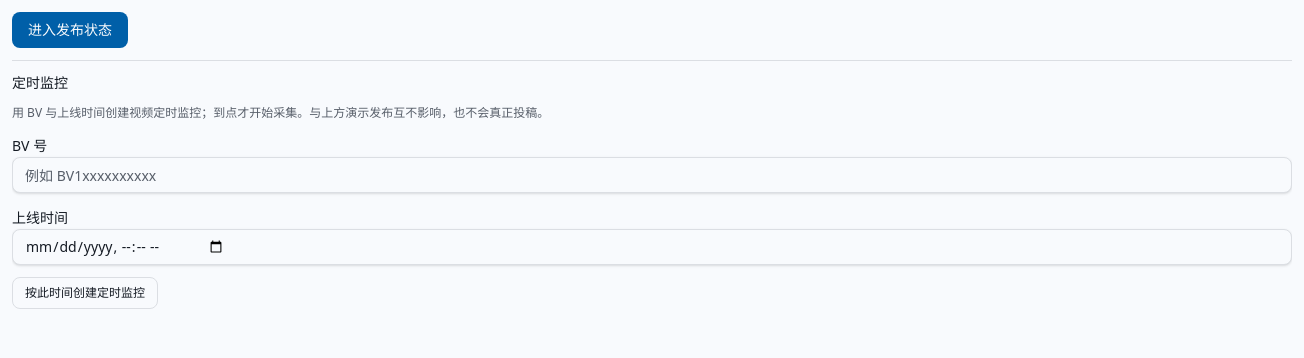
Test: PublishPanel scheduled monitor › creates a scheduled video monitor and shows the planned instant
Step 1. Type "BV1xx411c7mD" into the field with test id "publish-monitor-bvid" → (652, 175), box x1=12 y1=157 x2=1292 y2=193
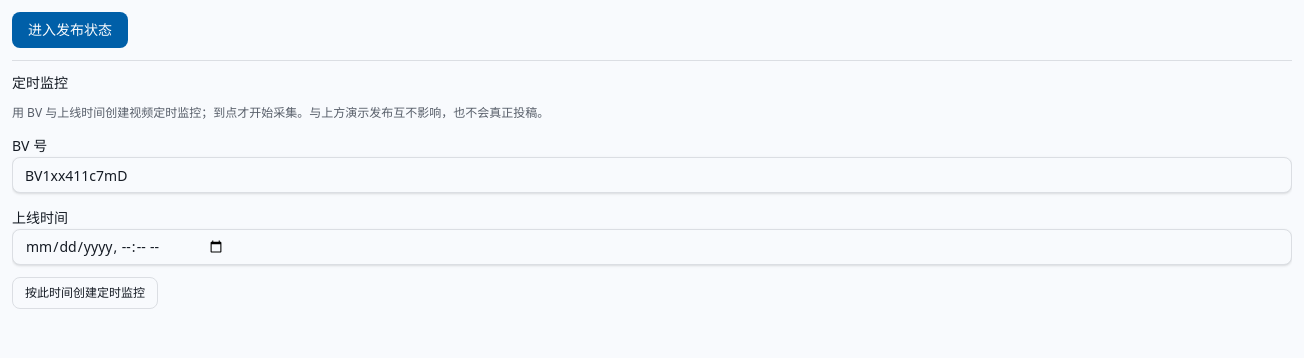
Step 2. Type "2026-11-01T09:30" into the field with test id "publish-monitor-start-at" → (652, 247), box x1=12 y1=229 x2=1292 y2=265
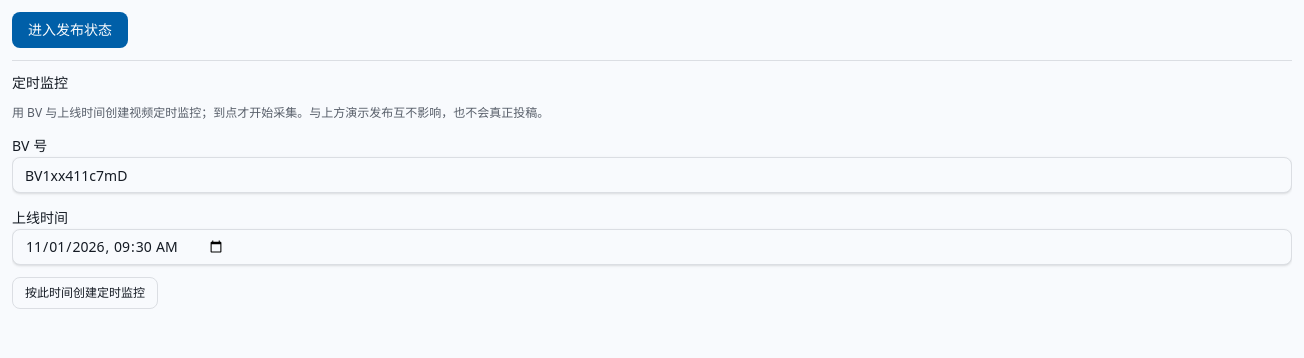
Step 3. Click the button "按此时间创建定时监控" → (85, 293), box x1=12 y1=277 x2=158 y2=309
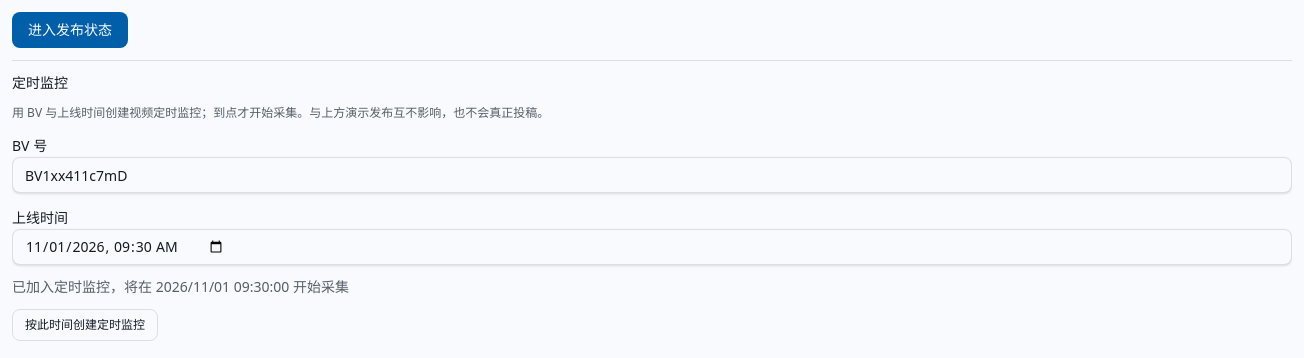
Expected: the element with test id "publish-monitor-status" does not show "投稿"
Expected: the message with test id "publish-monitor-status" shows "已加入定时监控", x1=12 y1=277 x2=349 y2=296
Expected: the message with test id "publish-monitor-status" shows "开始采集", x1=12 y1=277 x2=349 y2=296
